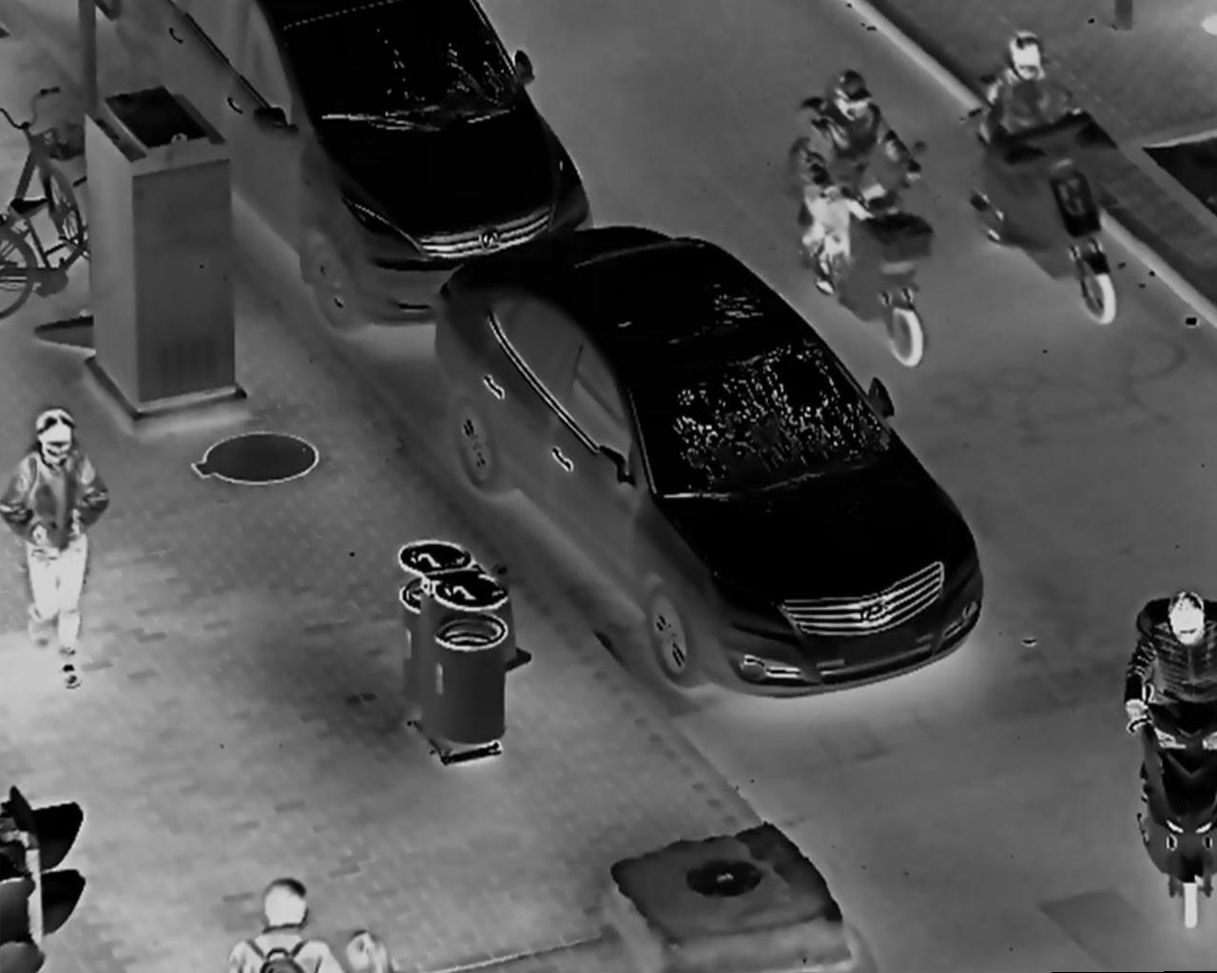person: (786, 66, 921, 299), (958, 26, 1091, 258), (1119, 584, 1217, 818), (222, 875, 340, 973), (332, 926, 404, 973)
